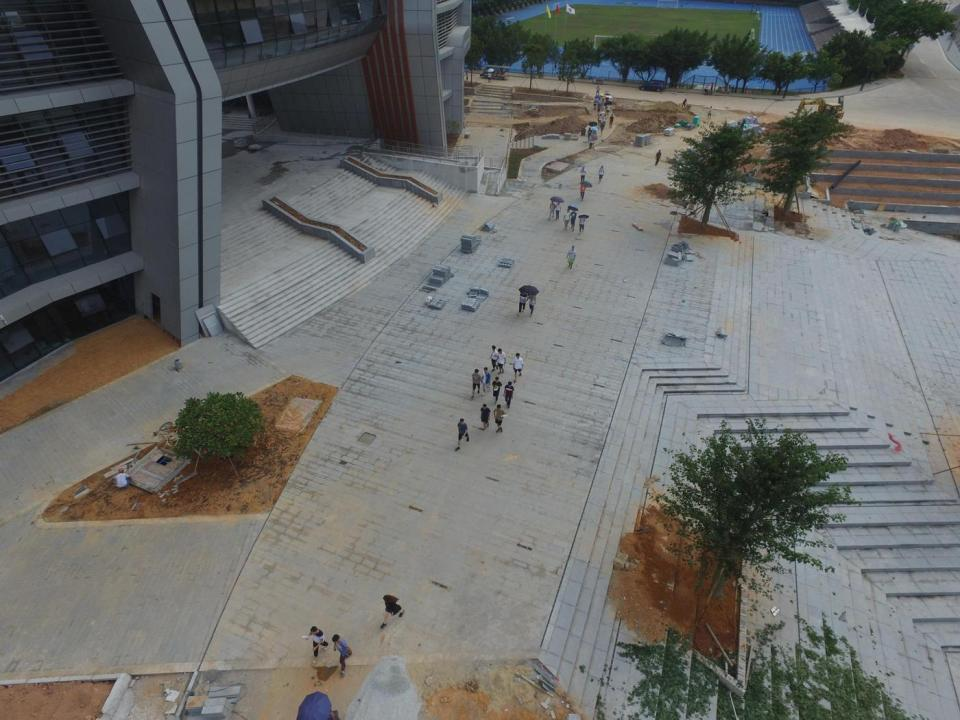car: (638, 79, 664, 92)
